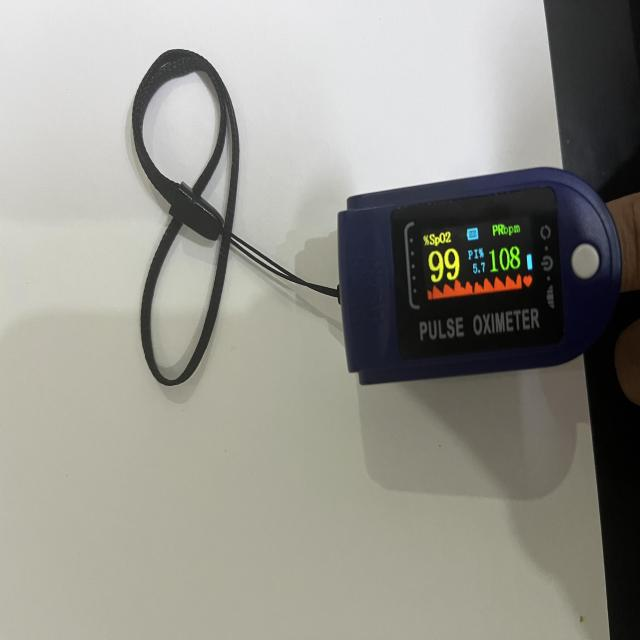spo2: (336, 168, 624, 389)
